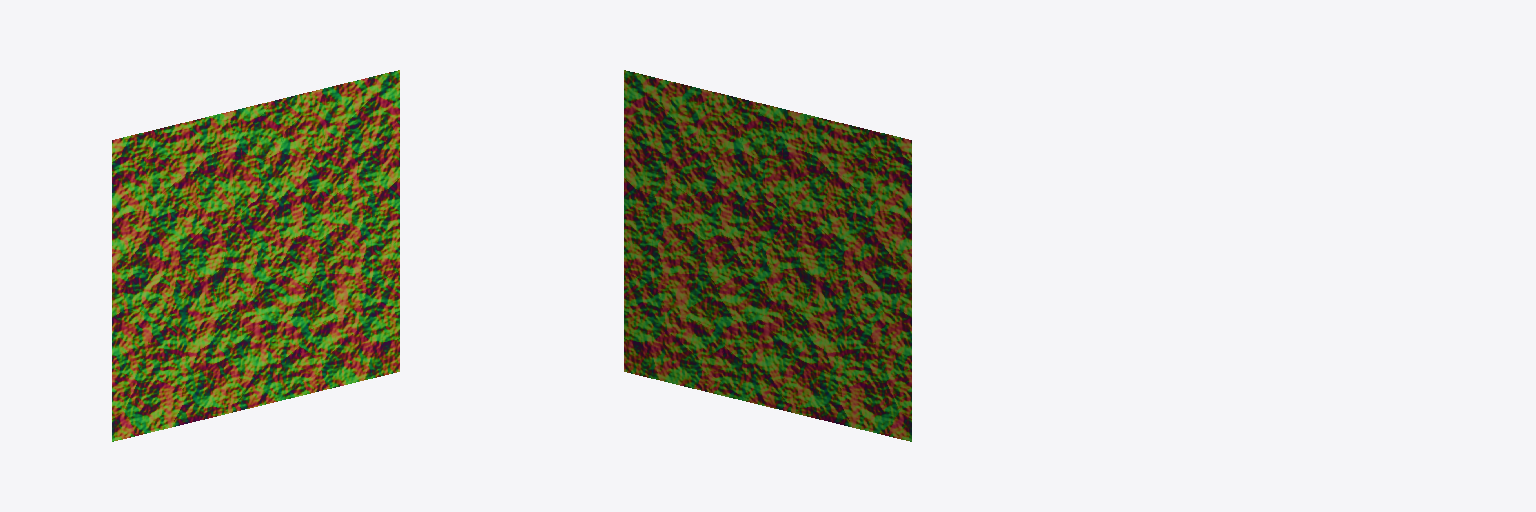
The picture shows the model from 3 angles: view 1: azimuth 30°, elevation 25°; view 2: azimuth 150°, elevation 25°; view 3: azimuth 270°, elevation 25°; orthographic projection.
Parts seen in each view (by area): view 1: Plane_Plane.006; view 2: Plane_Plane.006; view 3: none.
Part boxes in pixels (bbox=[...]): Plane_Plane.006: bbox=[112, 70, 399, 441]; Plane_Plane.006: bbox=[624, 70, 911, 441].
Bounding box in the file's own units: 16 × 16 × 0.
1 materials, 1 textured.